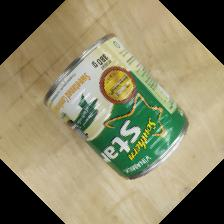NSPN_Lon: (44, 31, 190, 182)
